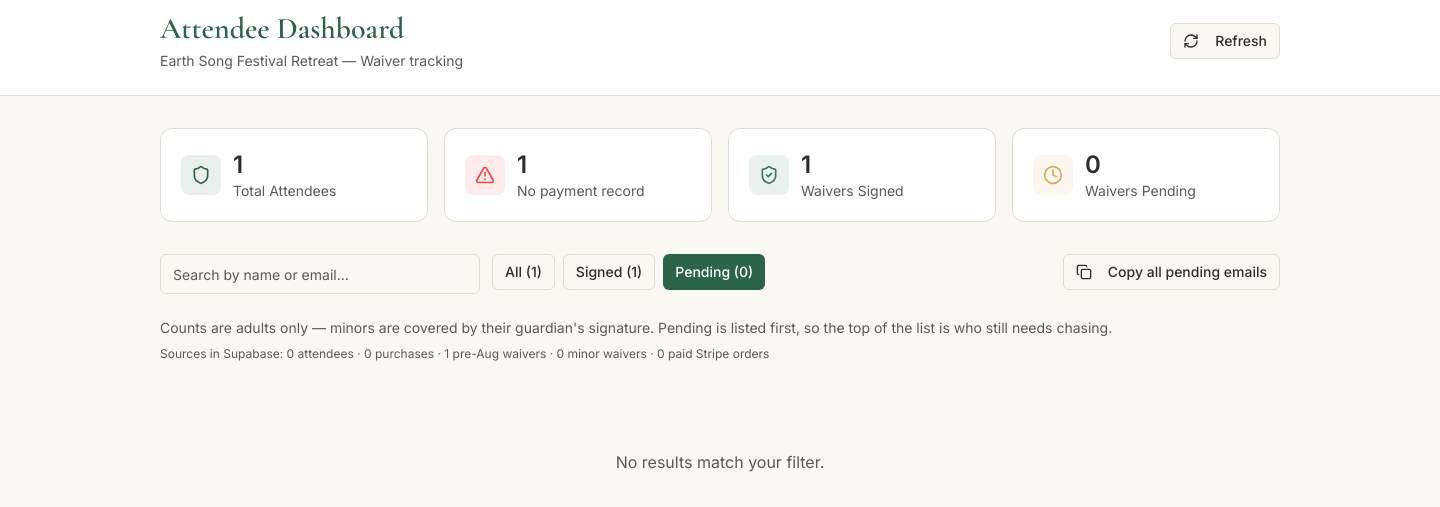
Test case: available actions › marks a legacy row read-only, since there is no attendee row to act on
The image size is (1440, 507).
Click the button "all (1)" at {"x": 523, "y": 272}, box [492,254,555,290]
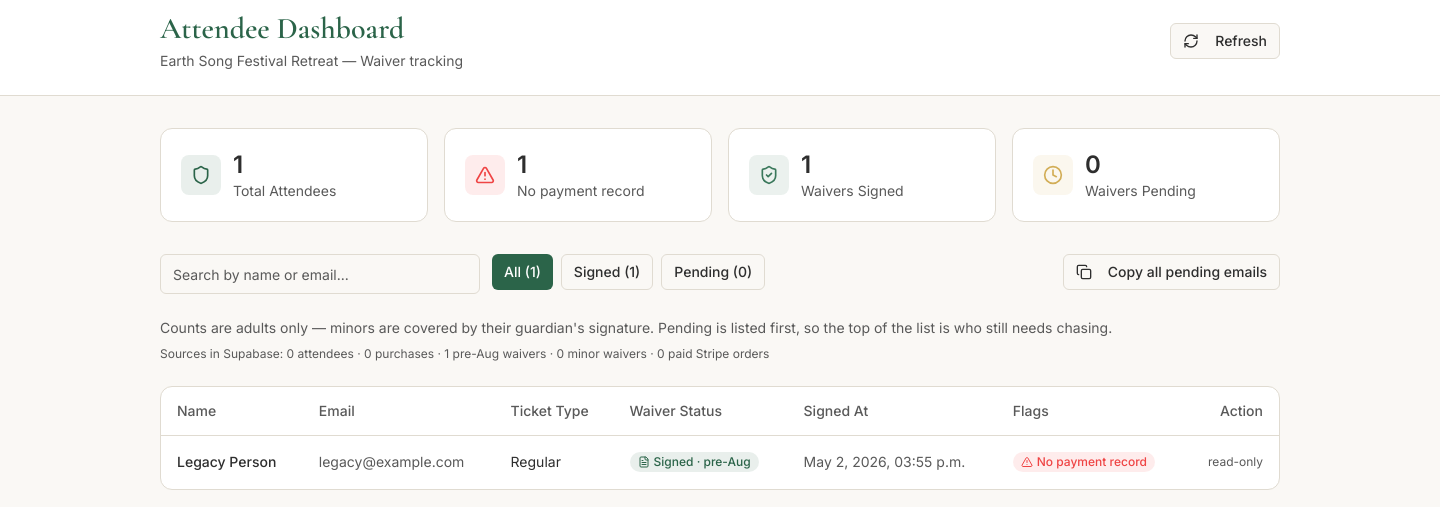
Expected: the text "read-only" is shown, [1208,454,1263,470]
